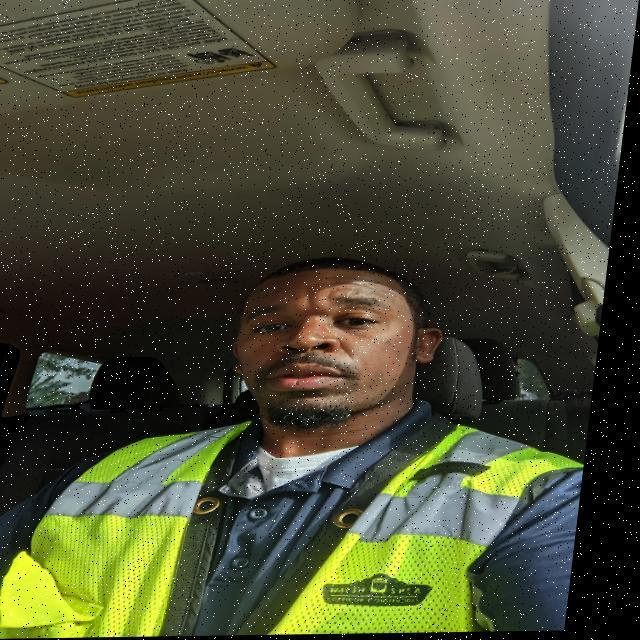noSeatbelt: (0, 406, 601, 640)
